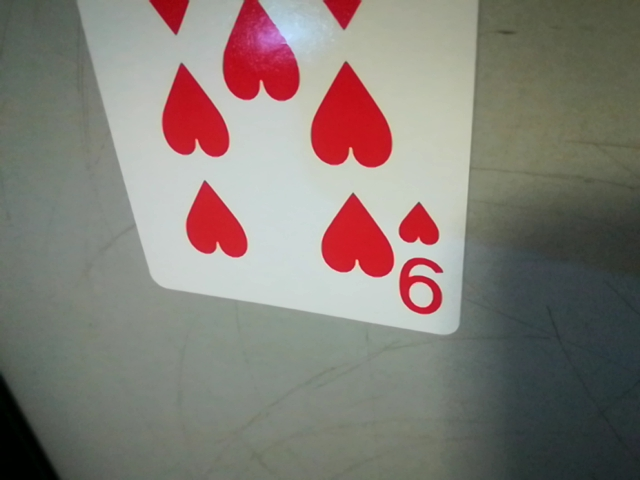hx 9: (387, 195, 460, 324)
